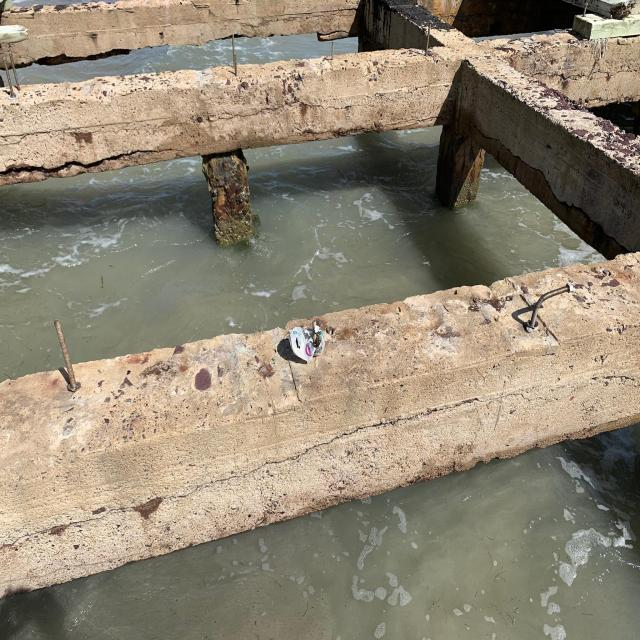litter: (290, 324, 327, 362)
